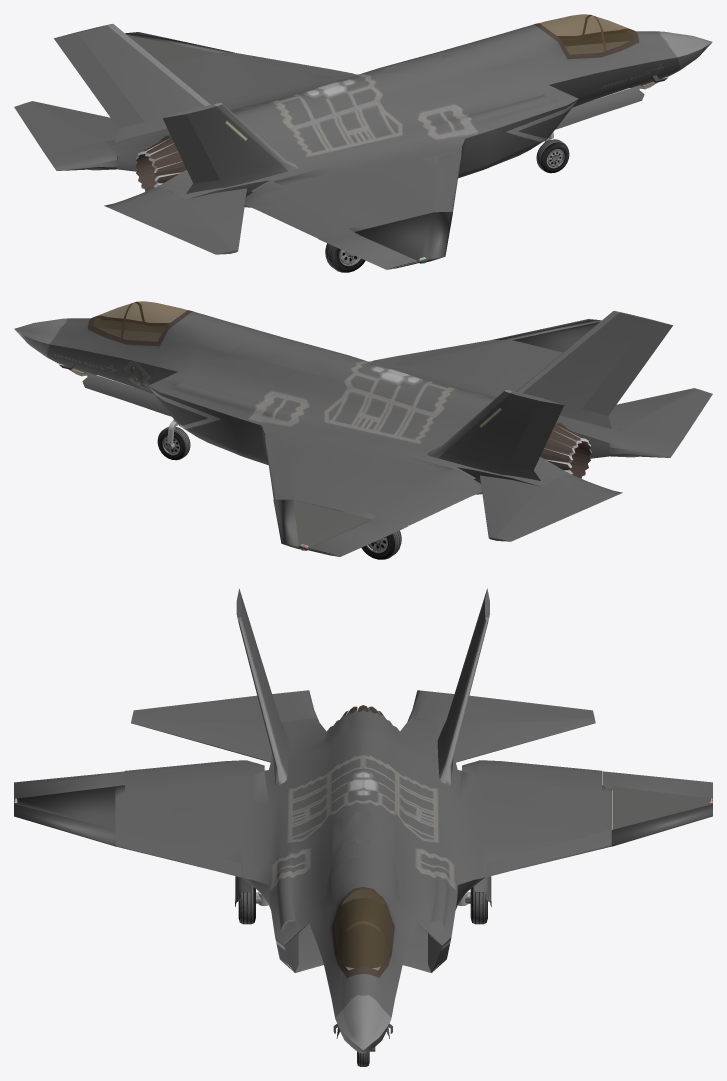
3 views of the same model, one above another, from view 1: azimuth 30°, elevation 25°; view 2: azimuth 150°, elevation 25°; view 3: azimuth 270°, elevation 25° (orthographic). The views are drawn at different scales.
Visible parts, largest first — view 1: fuselage, vertStab, rightElevator, leftElevator, rightFlaperon, canopy, leftRudder, 立方体, topLiftDoor, rightRudder, rightFlaperon.001, rightNoseDoor (+8 smaller); view 2: fuselage, vertStab, leftElevator, rightElevator, leftFlaperon, canopy, rightRudder, fuselage.002, topLiftDoor, leftRudder, rightFlaperon.002, leftNoseDoor (+8 smaller); view 3: fuselage, leftElevator, rightElevator, vertStab, canopy, rightFlaperon, leftFlaperon, 立方体, fuselage.002, topLiftDoor, leftSlat, rightSlat (+6 smaller).
Boxes of the visible parts, <box> form: fuselage: <box>106,24,712,231</box>; vertStab: <box>76,24,298,193</box>; rightElevator: <box>104,186,246,254</box>; leftElevator: <box>14,101,118,170</box>; rightFlaperon: <box>245,181,363,238</box>; canopy: <box>534,14,639,59</box>; leftRudder: <box>54,32,144,128</box>; 立方体: <box>354,212,432,262</box>; topLiftDoor: <box>467,25,549,67</box>; rightRudder: <box>162,111,219,183</box>; rightFlaperon.001: <box>318,229,417,269</box>; rightNoseDoor: <box>555,85,644,129</box>; fuselage: <box>14,311,620,519</box>; vertStab: <box>428,311,650,480</box>; leftElevator: <box>480,473,622,541</box>; rightElevator: <box>608,388,712,457</box>; leftFlaperon: <box>363,468,481,525</box>; canopy: <box>87,301,192,346</box>; rightRudder: <box>582,319,672,415</box>; fuselage.002: <box>293,500,371,550</box>; topLiftDoor: <box>177,312,259,354</box>; leftRudder: <box>507,398,564,470</box>; rightFlaperon.002: <box>308,516,408,556</box>; leftNoseDoor: <box>82,372,171,416</box>; fuselage: <box>115,710,611,1053</box>; leftElevator: <box>408,690,595,762</box>; rightElevator: <box>131,690,318,762</box>; vertStab: <box>236,600,489,785</box>; canopy: <box>332,887,394,977</box>; rightFlaperon: <box>125,760,264,793</box>; leftFlaperon: <box>462,760,601,792</box>; 立方体: <box>14,786,115,829</box>; fuselage.002: <box>612,786,712,829</box>; topLiftDoor: <box>330,857,396,905</box>; leftSlat: <box>485,830,611,877</box>; rightSlat: <box>116,830,240,877</box>.
Size of the model in its own units: 18.48 by 5.66 by 15.54.
10 materials, 3 textured.
